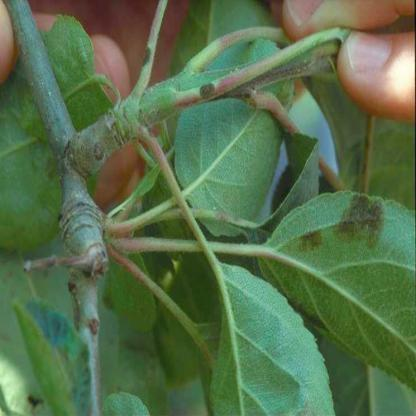Apple Scab Leaf: (263, 187, 415, 369)
